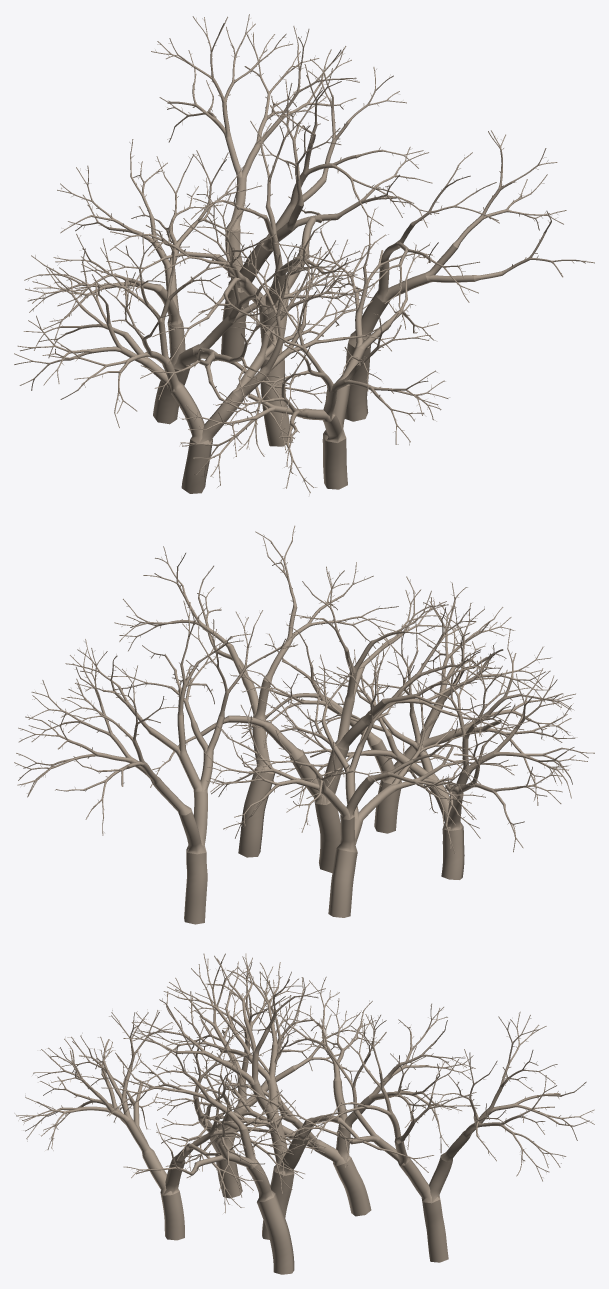
The model's file is 01_treeTroncoB_01.fbx.
The picture shows the model from 3 angles, top to bottom: view 1: azimuth 30°, elevation 25°; view 2: azimuth 150°, elevation 25°; view 3: azimuth 270°, elevation 25°; orthographic projection. The views are drawn at different scales.
Parts seen in each view (by area): view 1: _treeTroncoB_01; view 2: _treeTroncoB_01; view 3: _treeTroncoB_01.
Part boxes in pixels (x1,y1,x2,y2): _treeTroncoB_01: (14, 14, 594, 495); _treeTroncoB_01: (14, 525, 594, 924); _treeTroncoB_01: (14, 953, 594, 1274).
Bounding box in the file's own units: 12.45 × 7.69 × 14.69.
